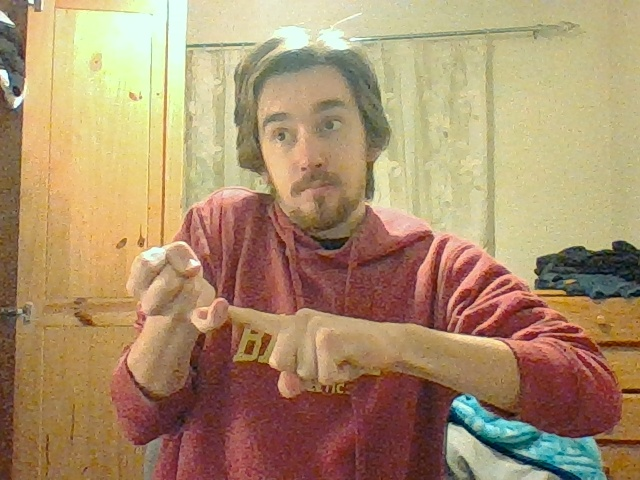step: (125, 240, 352, 398)
